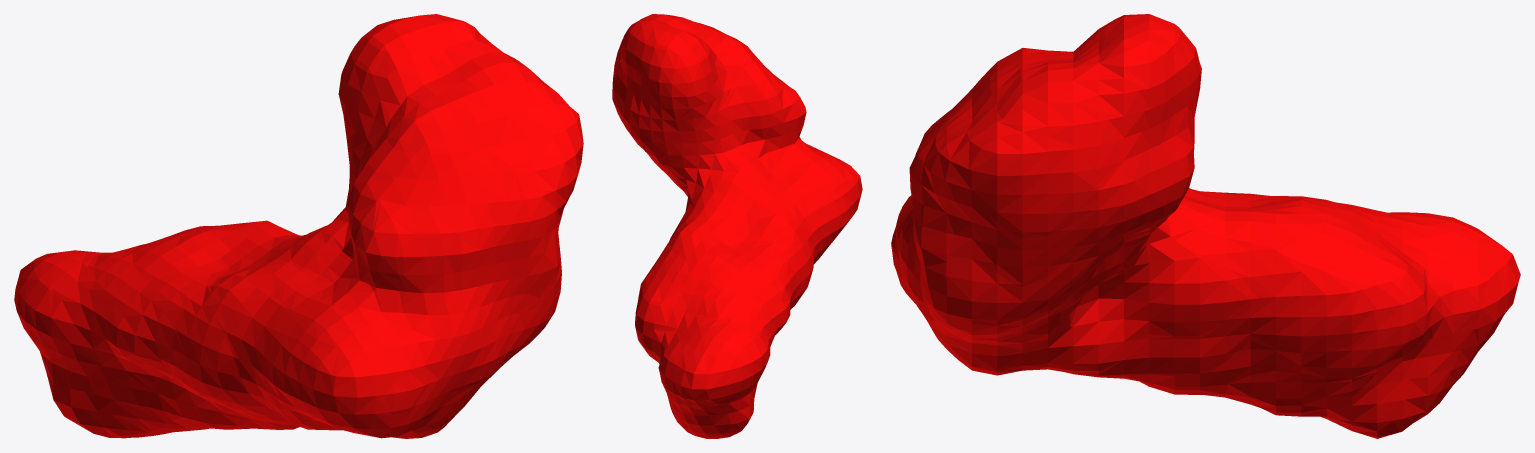
Rendered from frr_coarse.dae.
The picture shows the model from 3 angles, left to right: view 1: azimuth 30°, elevation 25°; view 2: azimuth 150°, elevation 25°; view 3: azimuth 270°, elevation 25°; orthographic projection. The views are drawn at different scales.
Parts seen in each view (by area): view 1: frr; view 2: frr; view 3: frr.
Part boxes in pixels (<box>): frr: <box>14,14,583,438</box>; frr: <box>612,14,862,438</box>; frr: <box>891,14,1520,438</box>.
Bounding box in the file's own units: 48.34 × 57.94 × 66.48.
